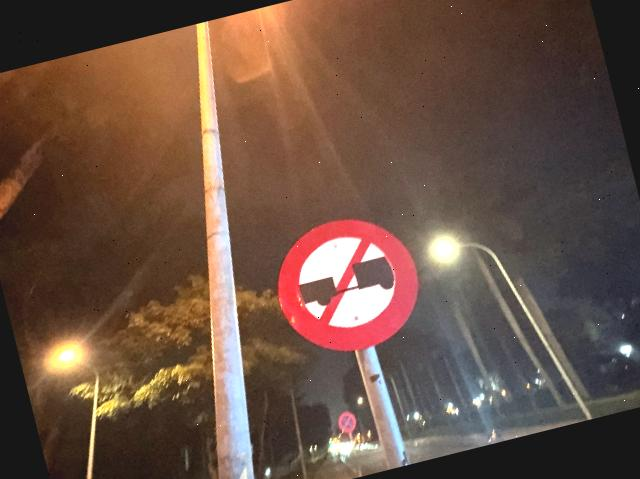cam-xe-somi-romooc: (263, 204, 432, 366)
